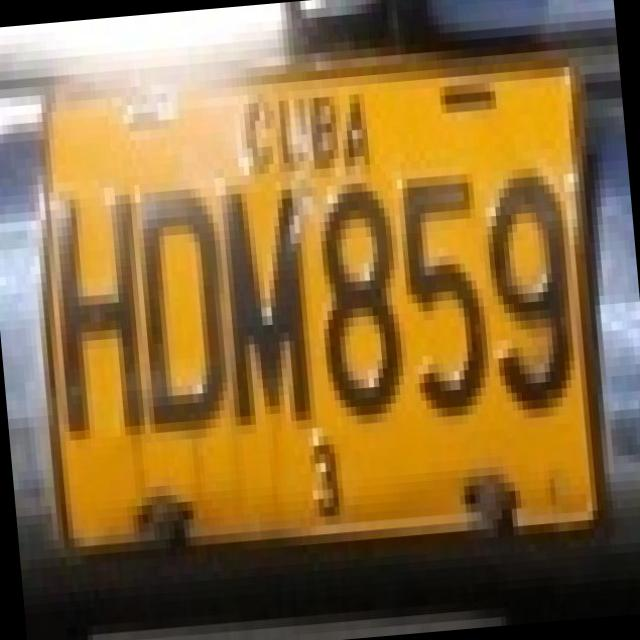LicensePlate: (7, 0, 627, 607)
